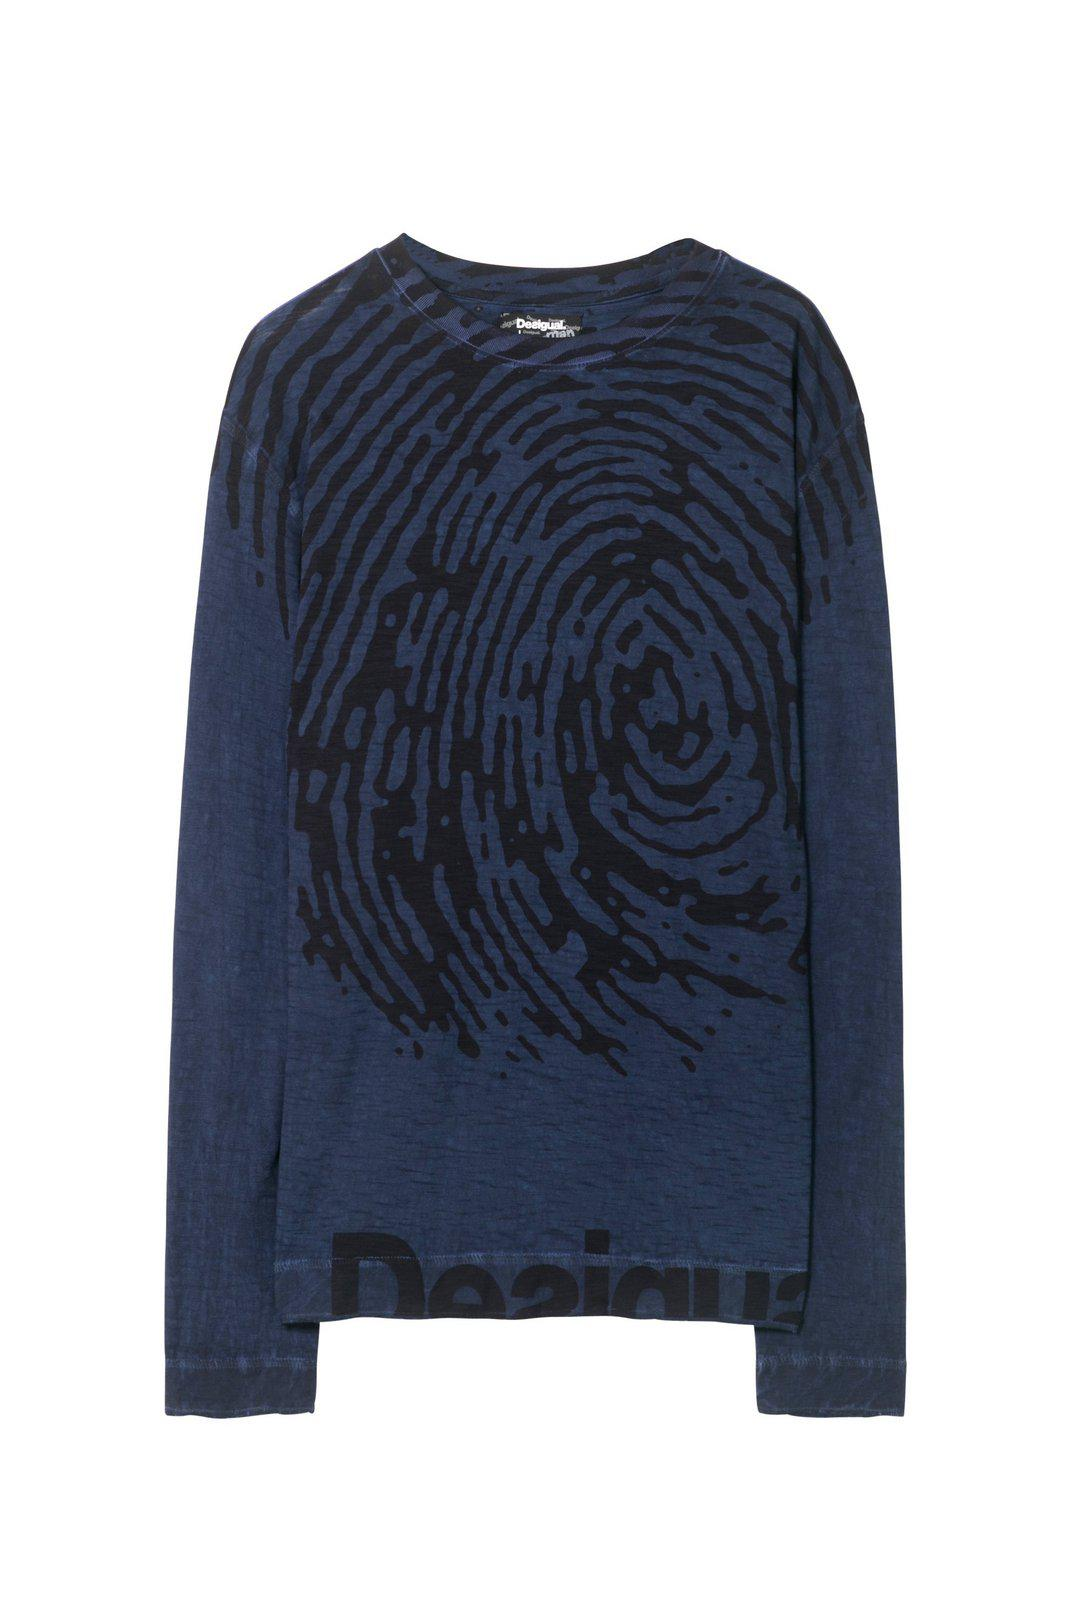teeshirt: (90, 217, 984, 1571)
